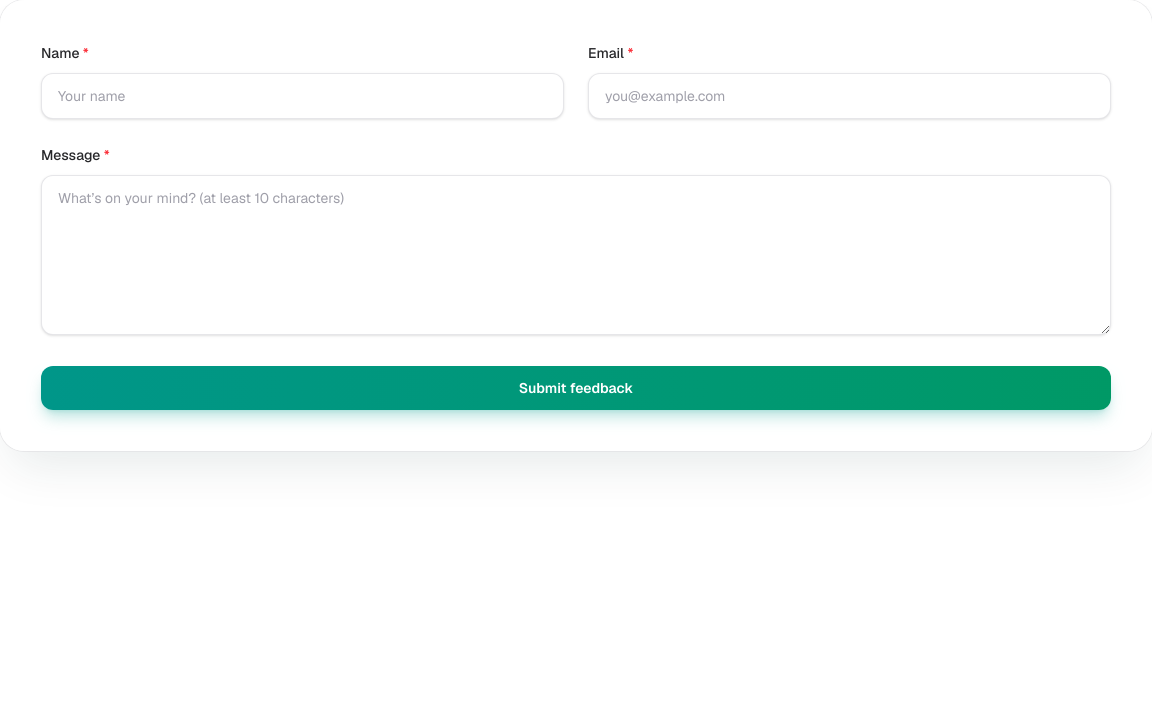
Test: FeedbackForm › shows validation hints for empty submit
This screenshot has width=1152, height=720.
Click the button "Submit feedback". click: (576, 388)
box: [41,366,1111,410]
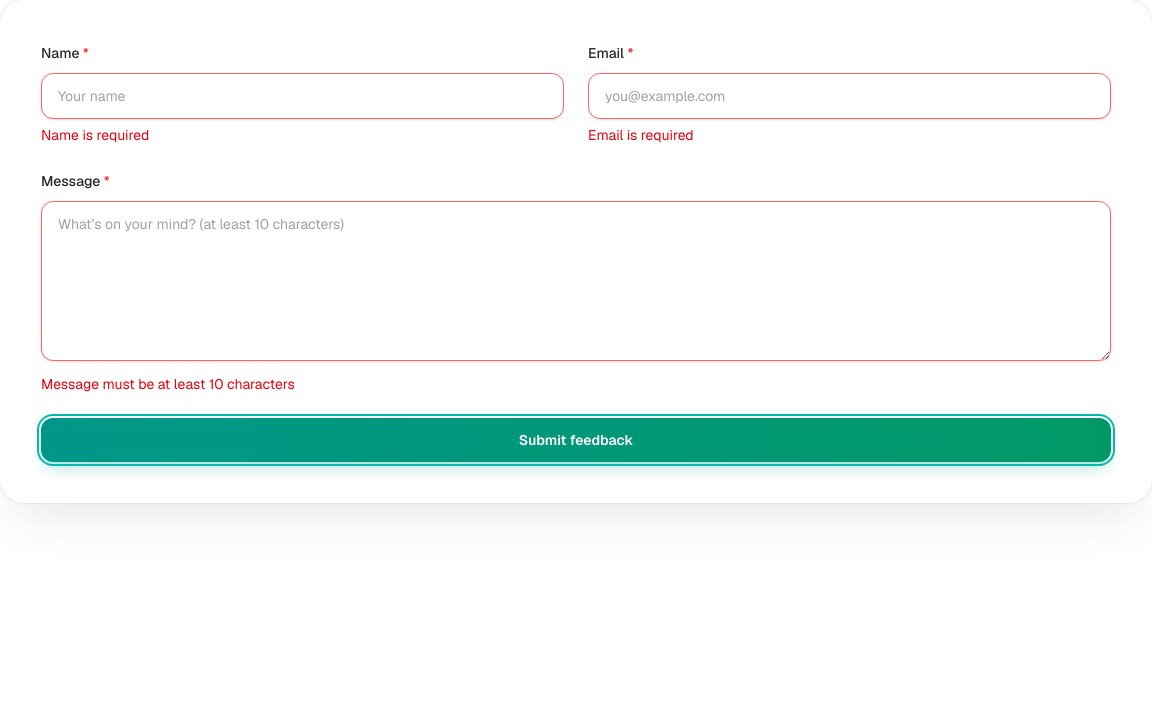
expect the text "Name is required" is shown: met, box [41,126,149,144]
